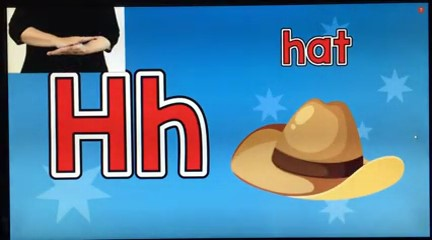H: (32, 19, 121, 63)
